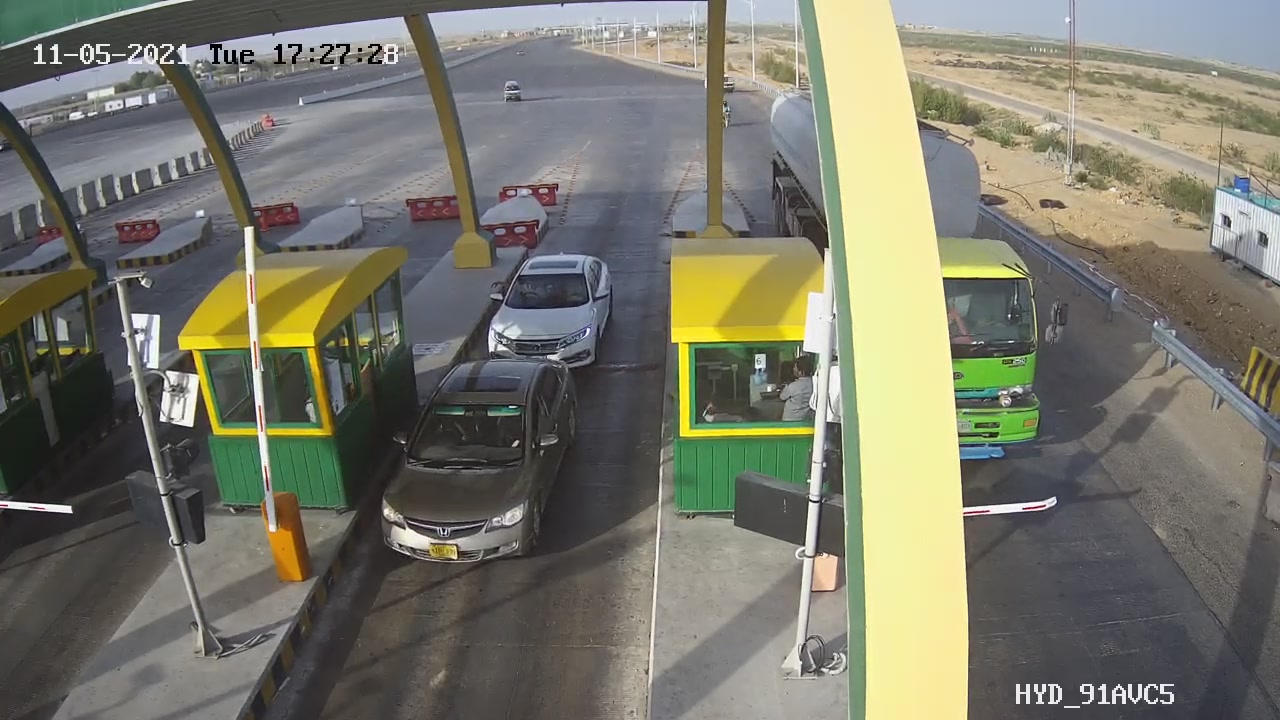F1: (366, 338, 604, 582), (472, 240, 630, 394)
